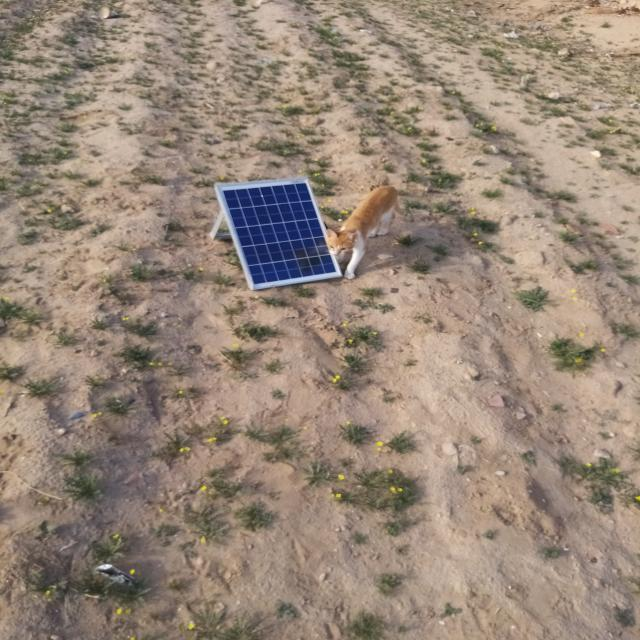Normal Solar Panel: (218, 178, 338, 288)
